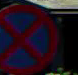No Stopping: (0, 2, 59, 72)
